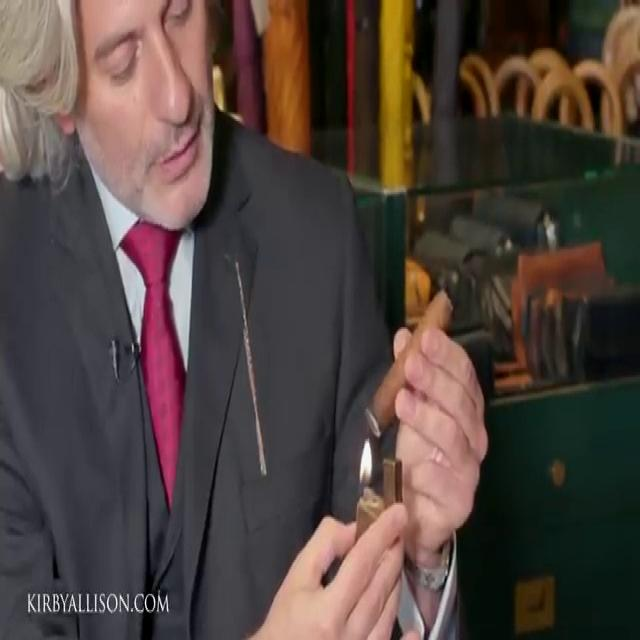Smooking: (360, 272, 460, 478)
